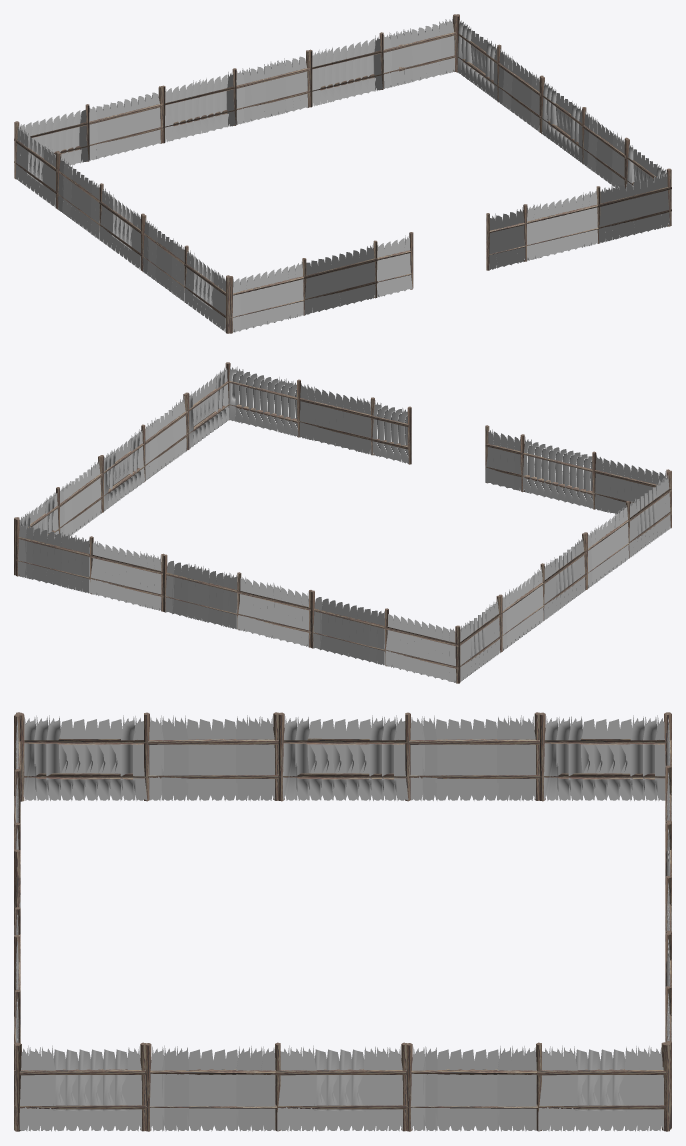
Rendered from Wall_2.FBX.
The picture shows the model from 3 angles, top to bottom: view 1: azimuth 30°, elevation 25°; view 2: azimuth 150°, elevation 25°; view 3: azimuth 270°, elevation 25°; orthographic projection. The views are drawn at different scales.
Parts seen in each view (by area): view 1: Object009; view 2: Object009; view 3: Object009.
Boxes of the visible parts, left/top/right/bottom form: Object009: left=14, top=14, right=671, bottom=333; Object009: left=14, top=362, right=671, bottom=683; Object009: left=14, top=712, right=671, bottom=1131.
Bounding box in the file's own units: 132 × 15.88 × 110.
